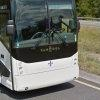Bus: (4, 1, 85, 97)
